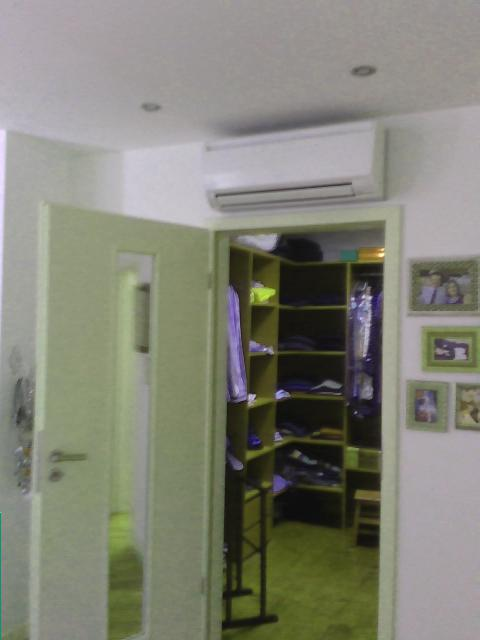open_door: (198, 204, 402, 638)
